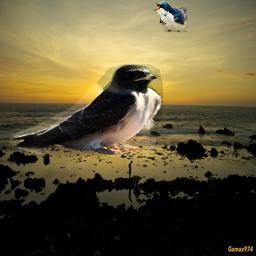Swallow: (8, 64, 163, 156), (153, 0, 188, 33)
